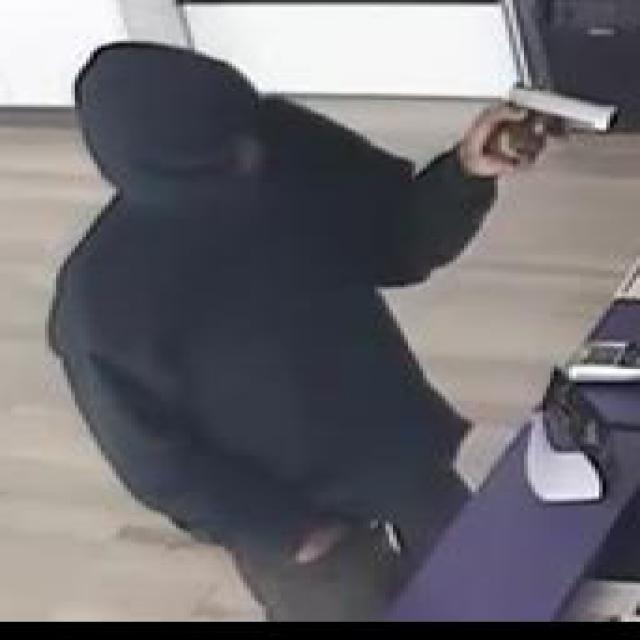Gun: (491, 80, 622, 164)
